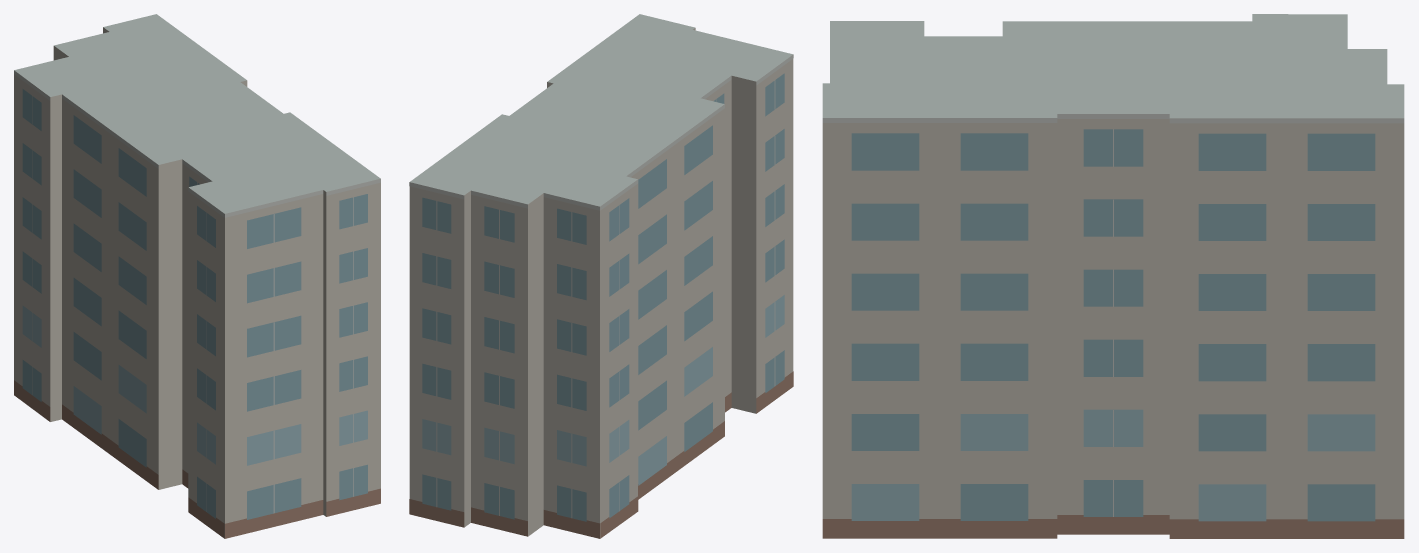
Rendered from survey-upis-33017639.glb.
The picture shows the model from 3 angles, left to right: view 1: azimuth 30°, elevation 25°; view 2: azimuth 150°, elevation 25°; view 3: azimuth 270°, elevation 25°; orthographic projection. The views are drawn at different scales.
Visible parts, largest first — view 1: survey-upis-33017639.tmp; view 2: survey-upis-33017639.tmp; view 3: survey-upis-33017639.tmp.
Part boxes in pixels (bbox=[...]): survey-upis-33017639.tmp: bbox=[14, 14, 380, 538]; survey-upis-33017639.tmp: bbox=[409, 14, 793, 538]; survey-upis-33017639.tmp: bbox=[822, 14, 1404, 538].
Size of the model in its own units: 10.53 by 19.8 by 24.84.
